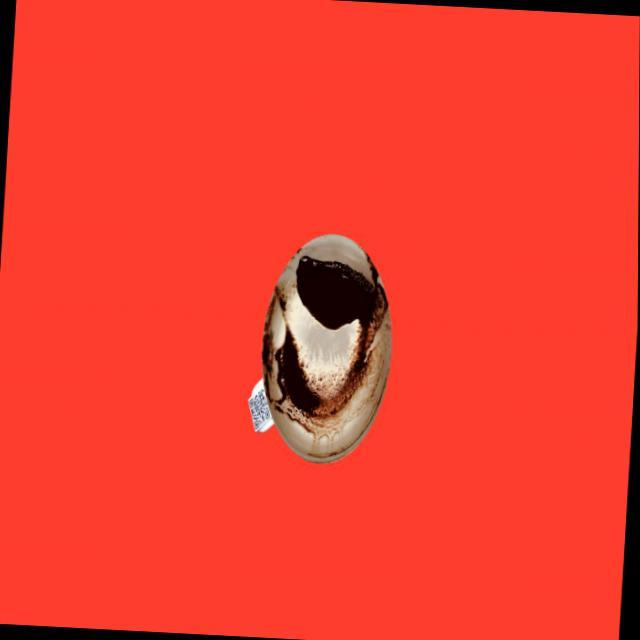cup: (242, 224, 403, 471)
